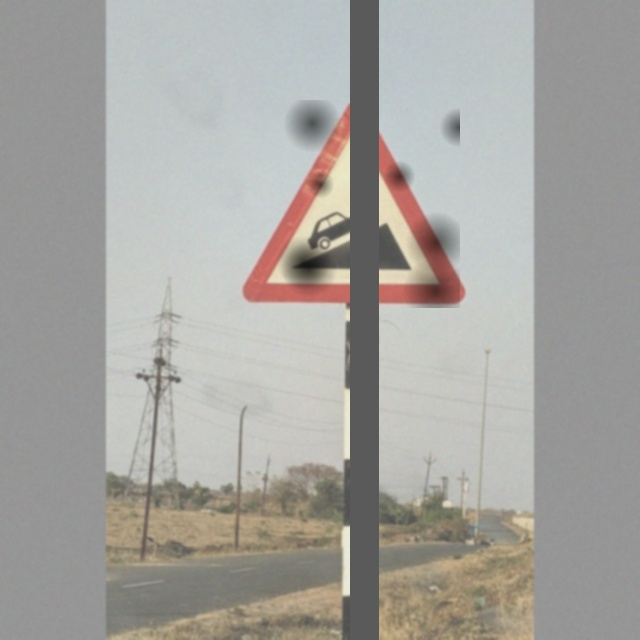Steep_Ascent: (247, 100, 460, 308)
